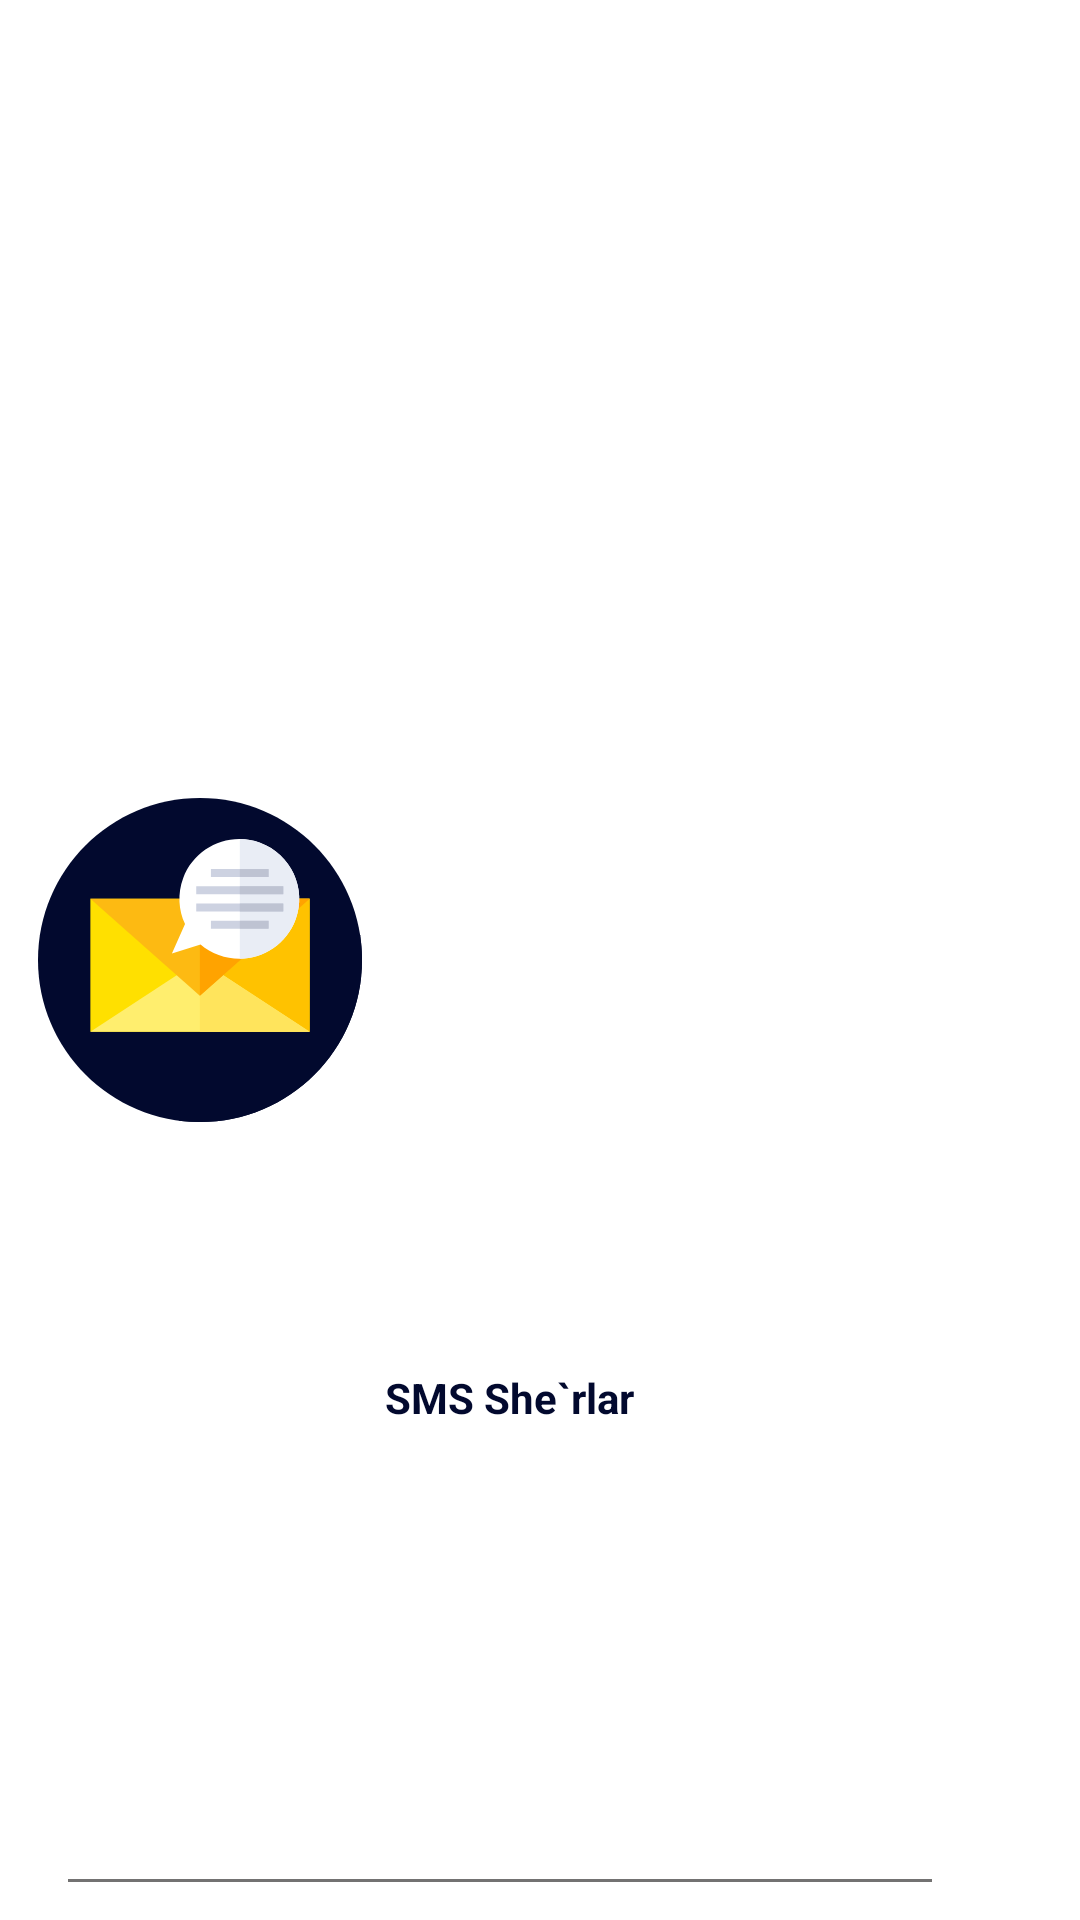

Where to tap for icons on this 1080px x 1920px app screen, as [x,y]:
message: [200,960]
